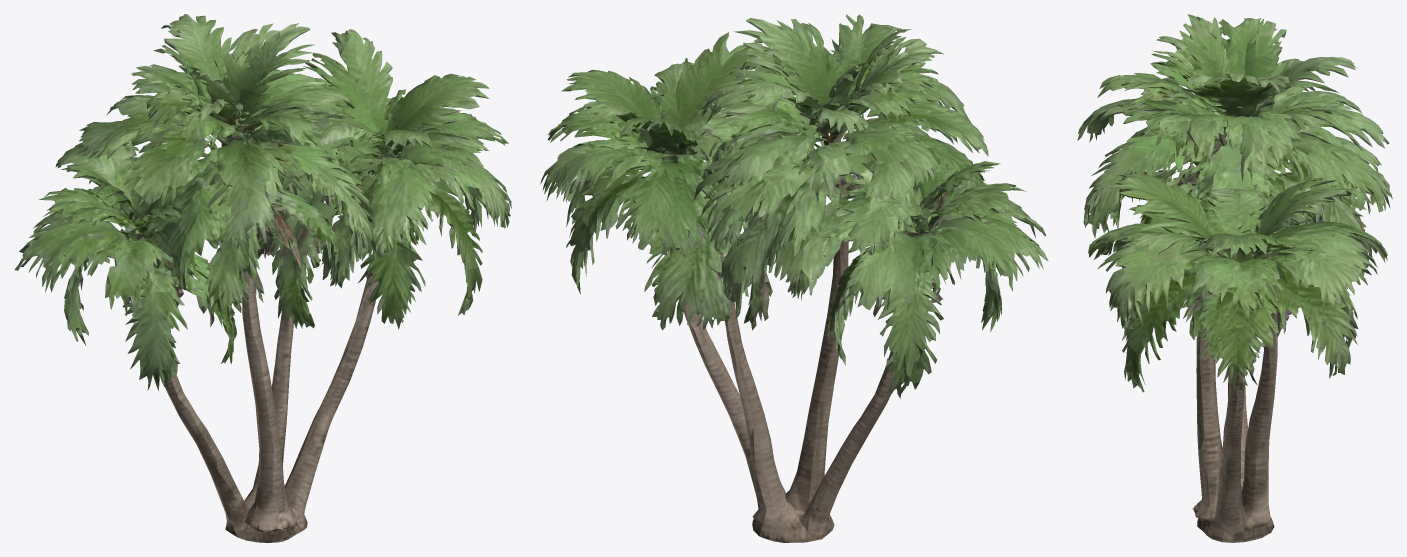
The model's file is 3-acai.glb.
The picture shows the model from 3 angles, left to right: view 1: azimuth 30°, elevation 25°; view 2: azimuth 150°, elevation 25°; view 3: azimuth 270°, elevation 25°; orthographic projection. The views are drawn at different scales.
Parts seen in each view (by area): view 1: geometry_0; view 2: geometry_0; view 3: geometry_0.
Boxes of the visible parts, x1=… form: geometry_0: x1=14, y1=14, x2=511, y2=542; geometry_0: x1=540, y1=14, x2=1048, y2=542; geometry_0: x1=1077, y1=14, x2=1392, y2=542.
Size of the model in its own units: 4.47 by 4.5 by 2.74.
Materials: 1 (1 with a texture image).
